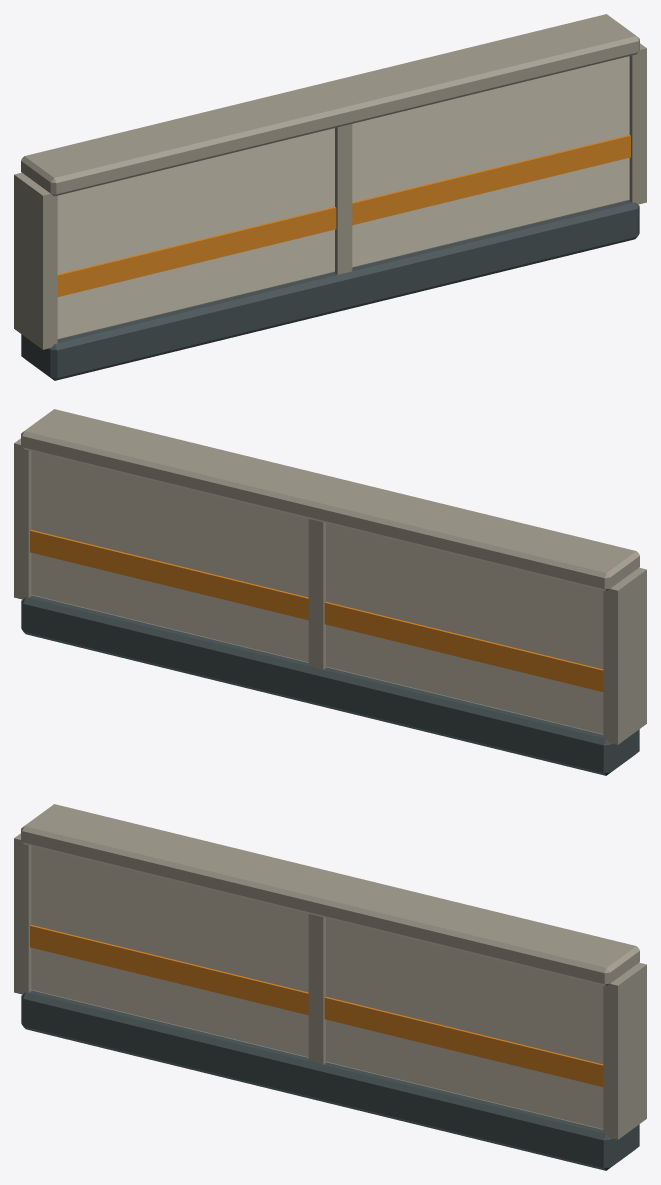
File: fh_wall_2.glb
3 renders of one model, top to bottom at view 1: azimuth 30°, elevation 25°; view 2: azimuth 150°, elevation 25°; view 3: azimuth 330°, elevation 25°, orthographic.
Visible parts, largest first — view 1: fh_wall_2; view 2: fh_wall_2; view 3: fh_wall_2.
Part boxes in pixels (x1,y1,x2,y2): fh_wall_2: [14, 14, 646, 380]; fh_wall_2: [14, 409, 646, 775]; fh_wall_2: [14, 804, 646, 1170].
Size of the model in its own units: 2.05 by 0.66 by 0.2.
